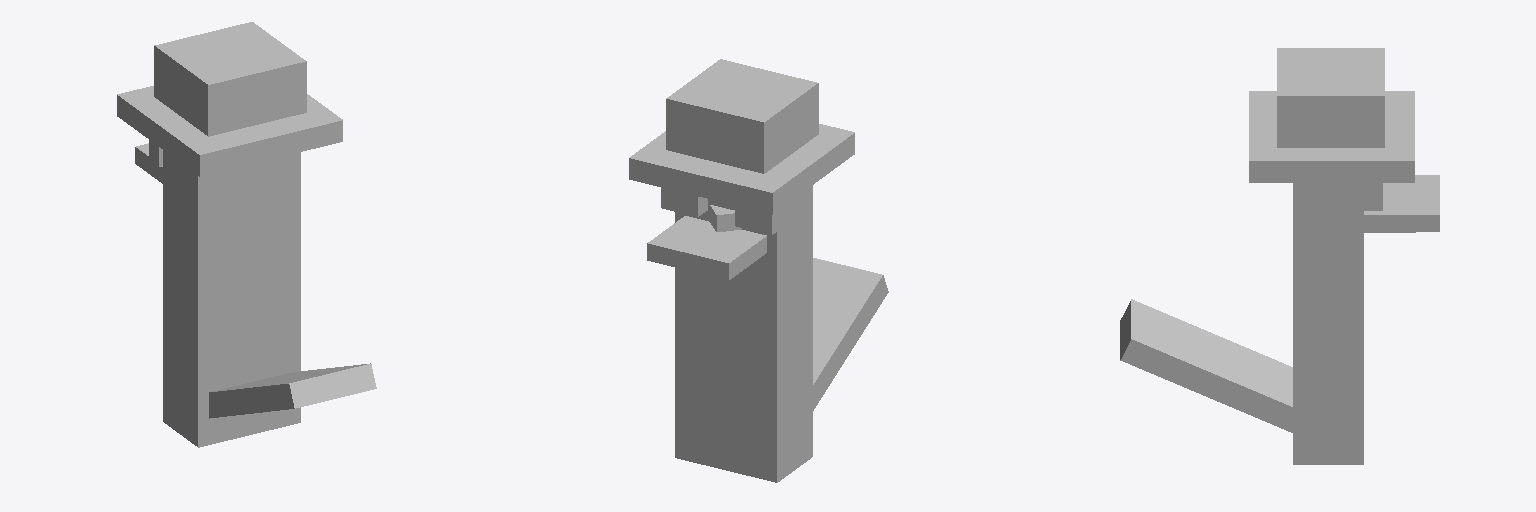
Rendered from perry_body.obj.
3 renders of one model, left to right at view 1: azimuth 30°, elevation 25°; view 2: azimuth 150°, elevation 25°; view 3: azimuth 270°, elevation 25°, orthographic.
Parts seen in each view (by area): view 1: 90d30219-3b92-a16c-93d9-115fc7675e29_Mesh_6, 05a2e211-4e03-91ec-6eed-b329d7765adf_Mesh_14, bdaac01a-6b8c-27be-d516-1f721a8c9d66_Mesh_13, 89ea1d33-76f5-556b-a806-a51204c2ac45_Mesh_12, f53b1225-f4a5-64d3-a707-f23276ea69ab_Mesh_9; view 2: 90d30219-3b92-a16c-93d9-115fc7675e29_Mesh_6, 05a2e211-4e03-91ec-6eed-b329d7765adf_Mesh_14, bdaac01a-6b8c-27be-d516-1f721a8c9d66_Mesh_13, 89ea1d33-76f5-556b-a806-a51204c2ac45_Mesh_12, f53b1225-f4a5-64d3-a707-f23276ea69ab_Mesh_9, ea87a698-1a8b-a8c3-2cde-1b84e9829d7b_Mesh_8, 66446a82-cc1e-f78c-4665-6ba8bd9a9eb1_Mesh_7, edcbd956-def5-4c7d-ff4a-107f115c9733_Mesh_11; view 3: 90d30219-3b92-a16c-93d9-115fc7675e29_Mesh_6, 89ea1d33-76f5-556b-a806-a51204c2ac45_Mesh_12, 05a2e211-4e03-91ec-6eed-b329d7765adf_Mesh_14, bdaac01a-6b8c-27be-d516-1f721a8c9d66_Mesh_13, f53b1225-f4a5-64d3-a707-f23276ea69ab_Mesh_9, 66446a82-cc1e-f78c-4665-6ba8bd9a9eb1_Mesh_7.
Boxes of the visible parts, x1,y1,x2,y2 form: 90d30219-3b92-a16c-93d9-115fc7675e29_Mesh_6: [163, 150, 300, 447]; 05a2e211-4e03-91ec-6eed-b329d7765adf_Mesh_14: [154, 22, 306, 136]; bdaac01a-6b8c-27be-d516-1f721a8c9d66_Mesh_13: [117, 86, 342, 176]; 89ea1d33-76f5-556b-a806-a51204c2ac45_Mesh_12: [209, 363, 376, 418]; f53b1225-f4a5-64d3-a707-f23276ea69ab_Mesh_9: [135, 143, 162, 183]; 90d30219-3b92-a16c-93d9-115fc7675e29_Mesh_6: [675, 185, 812, 482]; 05a2e211-4e03-91ec-6eed-b329d7765adf_Mesh_14: [666, 59, 818, 173]; bdaac01a-6b8c-27be-d516-1f721a8c9d66_Mesh_13: [629, 124, 854, 214]; 89ea1d33-76f5-556b-a806-a51204c2ac45_Mesh_12: [813, 258, 888, 410]; f53b1225-f4a5-64d3-a707-f23276ea69ab_Mesh_9: [647, 216, 766, 279]; ea87a698-1a8b-a8c3-2cde-1b84e9829d7b_Mesh_8: [735, 206, 781, 234]; 66446a82-cc1e-f78c-4665-6ba8bd9a9eb1_Mesh_7: [661, 187, 707, 216]; edcbd956-def5-4c7d-ff4a-107f115c9733_Mesh_11: [710, 205, 741, 231]; 90d30219-3b92-a16c-93d9-115fc7675e29_Mesh_6: [1293, 183, 1363, 464]; 89ea1d33-76f5-556b-a806-a51204c2ac45_Mesh_12: [1120, 299, 1292, 432]; 05a2e211-4e03-91ec-6eed-b329d7765adf_Mesh_14: [1277, 48, 1384, 147]; bdaac01a-6b8c-27be-d516-1f721a8c9d66_Mesh_13: [1249, 91, 1414, 182]; f53b1225-f4a5-64d3-a707-f23276ea69ab_Mesh_9: [1364, 175, 1439, 231]; 66446a82-cc1e-f78c-4665-6ba8bd9a9eb1_Mesh_7: [1364, 183, 1382, 210].
Bounding box in the file's own units: 14 × 34.25 × 26.92.